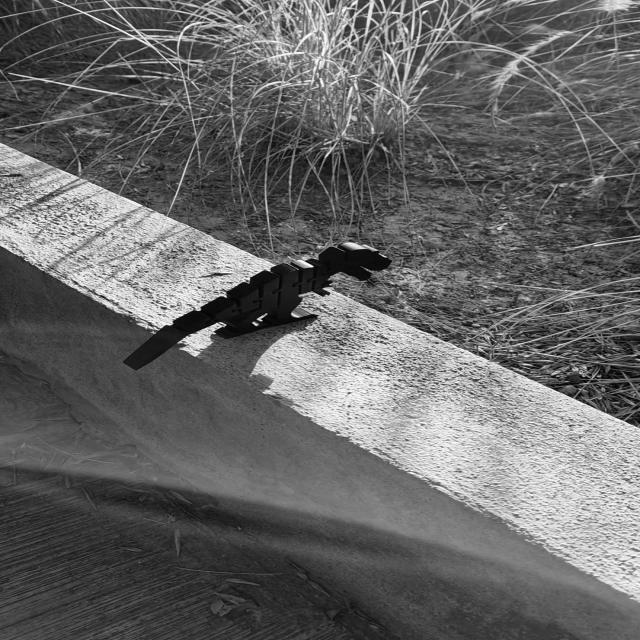dino: (120, 241, 394, 372)
